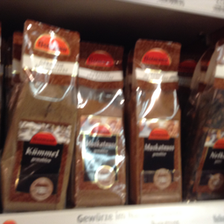spices: (1, 19, 80, 209), (75, 43, 130, 207), (131, 37, 185, 203)
